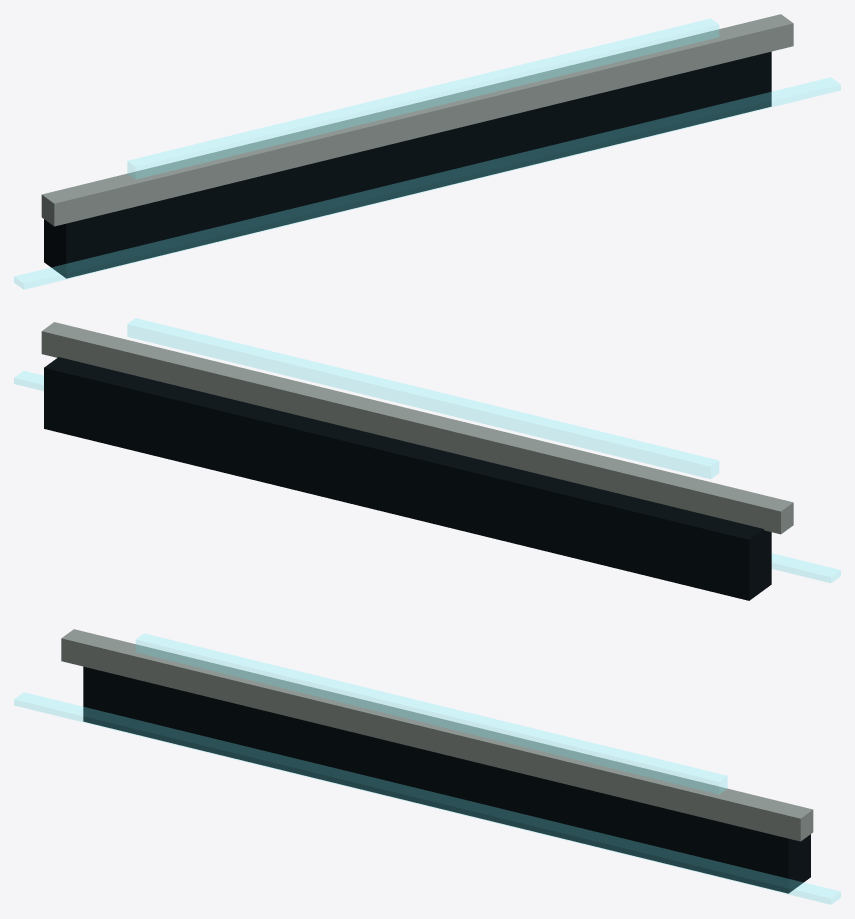
Rendered from hp_room_wall_wash_light_maintenance.glb.
3 views of the same model, one above another, from view 1: azimuth 30°, elevation 25°; view 2: azimuth 150°, elevation 25°; view 3: azimuth 330°, elevation 25° (orthographic).
Visible parts, largest first — view 1: maintenance_wall_wash_mount, maintenance_wall_wash_upper_lip, maintenance_wall_wash_emissive_blade; view 2: maintenance_wall_wash_mount, maintenance_wall_wash_upper_lip, maintenance_wall_wash_emissive_blade; view 3: maintenance_wall_wash_mount, maintenance_wall_wash_upper_lip, maintenance_wall_wash_emissive_blade.
Boxes of the visible parts, x1=… form: maintenance_wall_wash_mount: x1=44, y1=51, x2=771, y2=278; maintenance_wall_wash_upper_lip: x1=41, y1=14, x2=793, y2=226; maintenance_wall_wash_emissive_blade: x1=14, y1=18, x2=840, y2=289; maintenance_wall_wash_mount: x1=44, y1=357, x2=771, y2=600; maintenance_wall_wash_upper_lip: x1=41, y1=322, x2=793, y2=534; maintenance_wall_wash_emissive_blade: x1=14, y1=318, x2=840, y2=582; maintenance_wall_wash_mount: x1=83, y1=666, x2=810, y2=893; maintenance_wall_wash_upper_lip: x1=61, y1=629, x2=813, y2=841; maintenance_wall_wash_emissive_blade: x1=14, y1=633, x2=840, y2=904.
Size of the model in its own units: 1.68 by 0.2025 by 0.1275.
